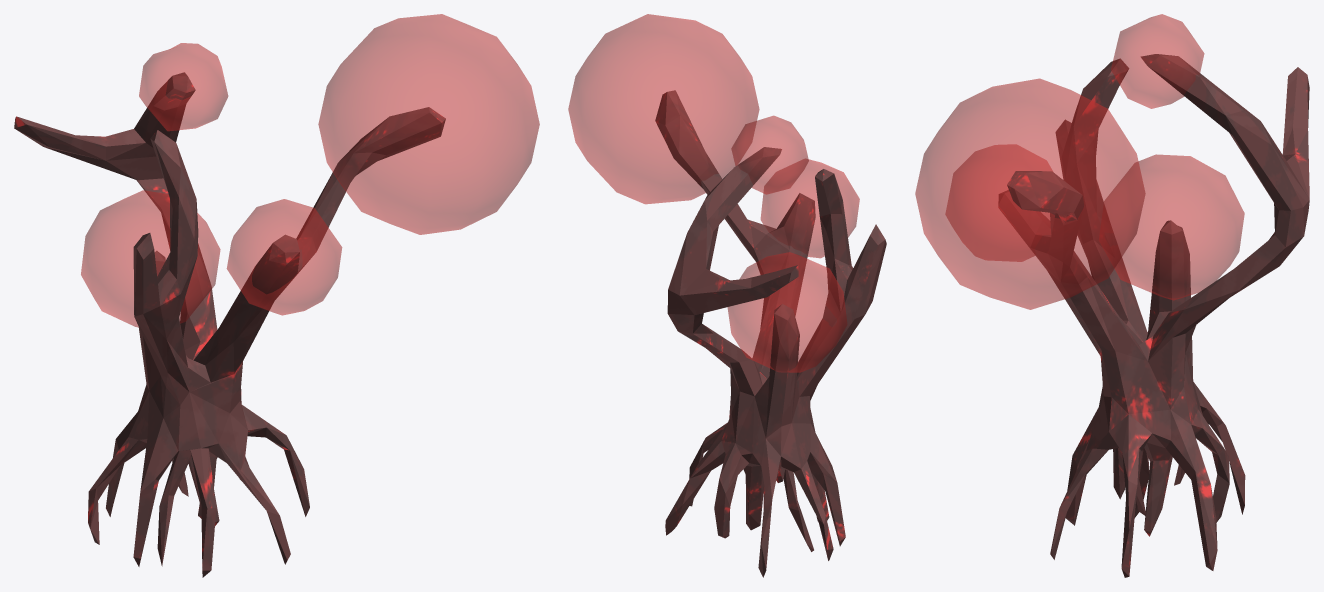
Rendered from tree2_lod0.glb.
3 renders of one model, left to right at view 1: azimuth 30°, elevation 25°; view 2: azimuth 150°, elevation 25°; view 3: azimuth 270°, elevation 25°, orthographic. The views are drawn at different scales.
Visible parts, largest first — view 1: Tree2; view 2: Tree2; view 3: Tree2.
Boxes of the visible parts, x1,y1,x2,y2 form: Tree2: (14, 14, 539, 577); Tree2: (568, 14, 886, 577); Tree2: (915, 14, 1309, 577).
Bounding box in the file's own units: 12.21 × 16.04 × 10.52.
Materials: 2 (1 with a texture image).
